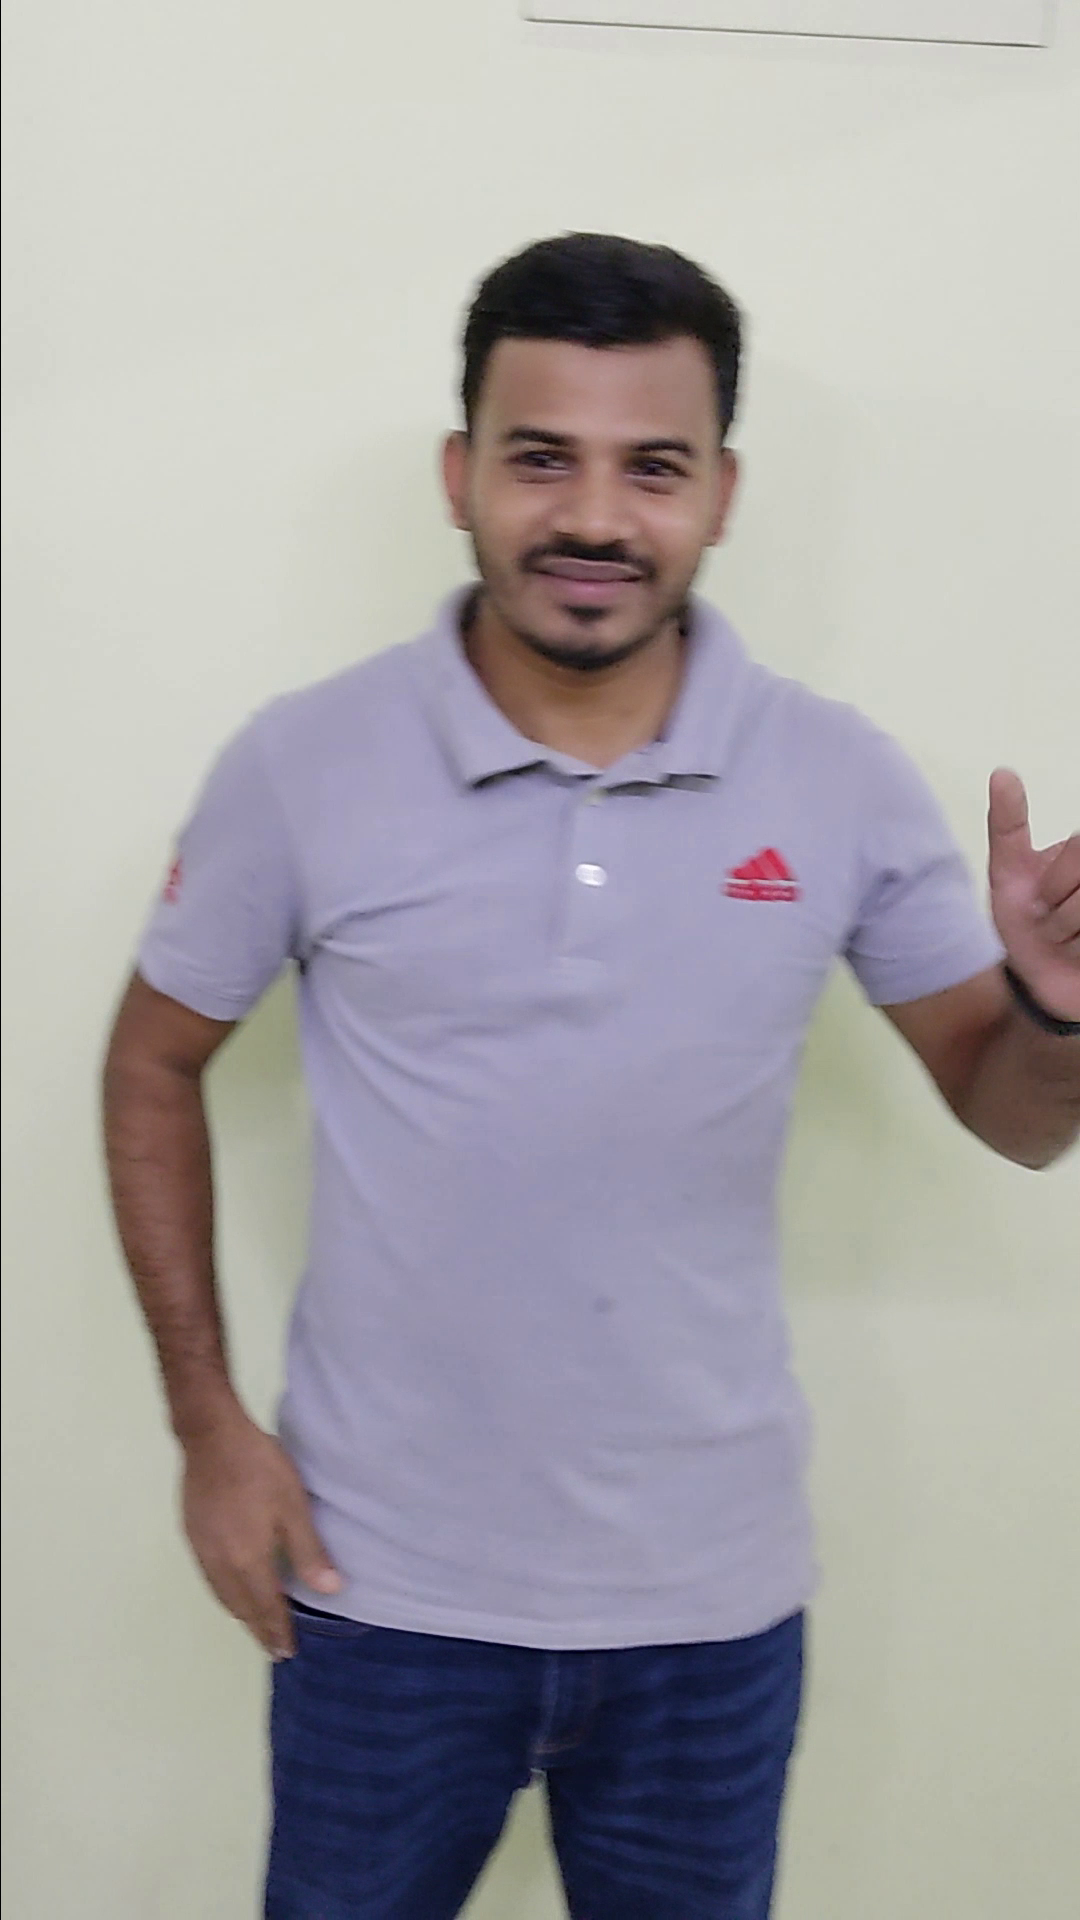Like: (975, 749, 1080, 1044)
None: (142, 1379, 363, 1685)
